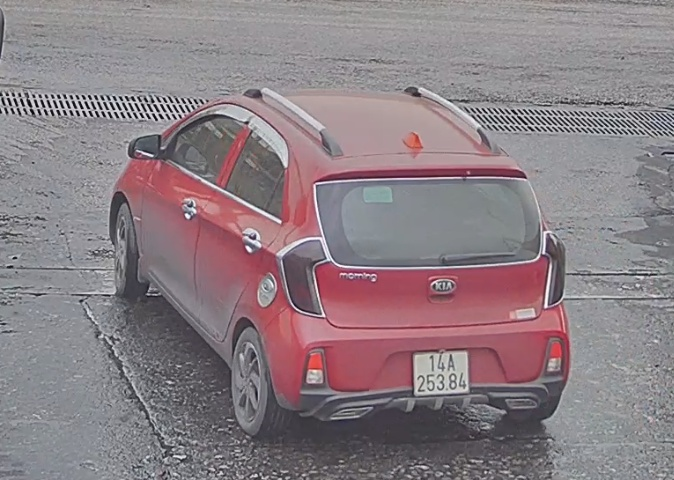vehicle plate: (405, 348, 479, 399)
